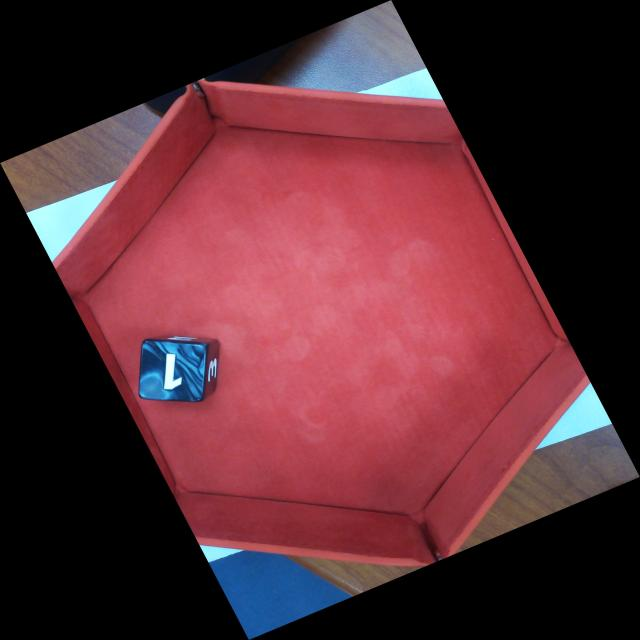dice: (139, 339, 206, 400)
